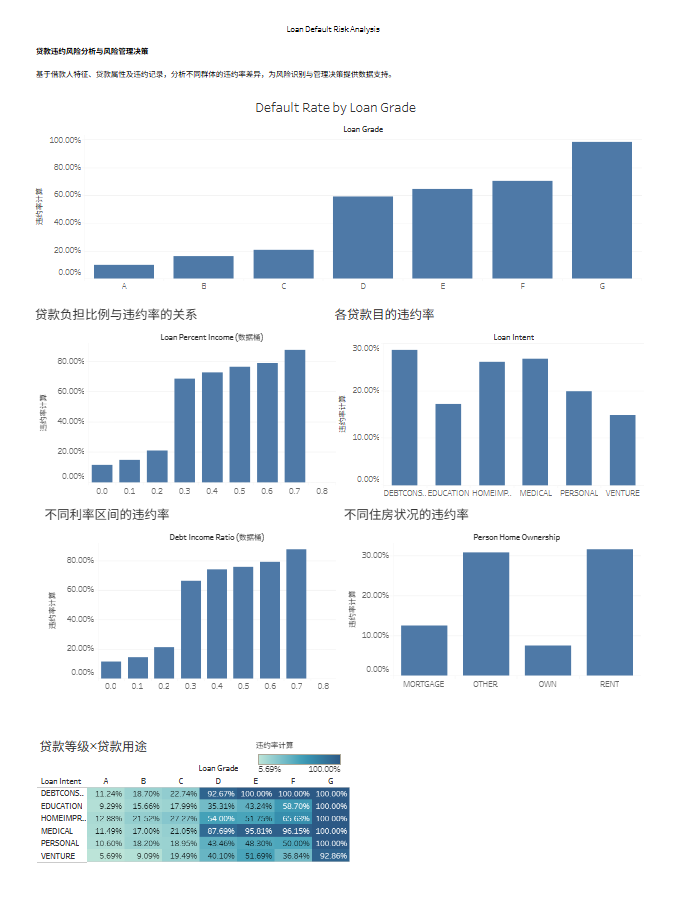

Layout of this report page (visuals, bound fields, positions):
{"tool":"tableau","page":{"name":"Loan Default Risk Analysis Dashboard","canvas":[1000,1500],"ordinal":0},"visuals":[{"type":"text","box":[17,50,952,108]},{"type":"worksheet","title":"各贷款等级记录违约率","mark":"Bar","rows":["Calculation_0014144942596114"],"cols":["loan_grade"],"box":[6,174,981,314]},{"type":"worksheet","title":"贷款负担比例与违约率的关系","mark":"Automatic","rows":["Calculation_0014144942596114"],"cols":["Loan Percent Income (数据桶)"],"box":[12,504,485,311]},{"type":"worksheet","title":"各贷款目的违约率","mark":"Automatic","rows":["Calculation_0014144942596114"],"cols":["loan_intent"],"box":[491,504,500,315]},{"type":"worksheet","title":"不同利率区间的违约率","mark":"Automatic","rows":["Calculation_0014144942596114"],"cols":["Debt Income Ratio (数据桶)"],"box":[27,824,471,304]},{"type":"worksheet","title":"不同住房状况的违约率","mark":"Automatic","rows":["Calculation_0014144942596114"],"cols":["person_home_ownership"],"box":[506,824,479,300]},{"type":"worksheet","title":"贷款等级×贷款用途","mark":"Square","rows":["loan_intent"],"cols":["loan_grade"],"box":[19,1194,513,257]},{"type":"legend","title":"贷款等级×贷款用途","param":"[federated.05c29u11ollz3e12bnspd1jsvbm9].[usr:Calculation_0014144942596114:qk]","box":[369,1204,140,78]}]}

Visuals, with their boxes on the page's 1000x1500 design canvas (x1, y1, x2, y2). These are canvas units, not pixel positions in the 689x902 screenshot, which may show the page scaled, cropped or inside an application window:
text: bbox(17, 50, 969, 158)
"各贷款等级记录违约率" worksheet (Bar marks): bbox(6, 174, 987, 488)
"贷款负担比例与违约率的关系" worksheet: bbox(12, 504, 497, 815)
"各贷款目的违约率" worksheet: bbox(491, 504, 991, 819)
"不同利率区间的违约率" worksheet: bbox(27, 824, 498, 1128)
"不同住房状况的违约率" worksheet: bbox(506, 824, 985, 1124)
"贷款等级×贷款用途" worksheet (Square marks): bbox(19, 1194, 532, 1451)
"贷款等级×贷款用途" legend: bbox(369, 1204, 509, 1282)
